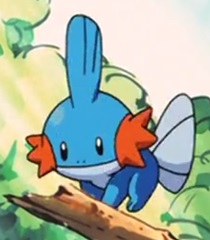mudkip: (28, 14, 194, 214)
